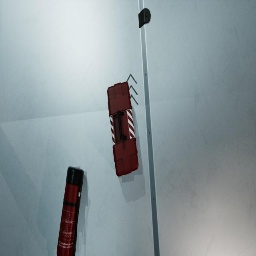FireExtinguisher ]: (57, 166, 84, 256)
FirstAidBox ,: (107, 82, 138, 176)
